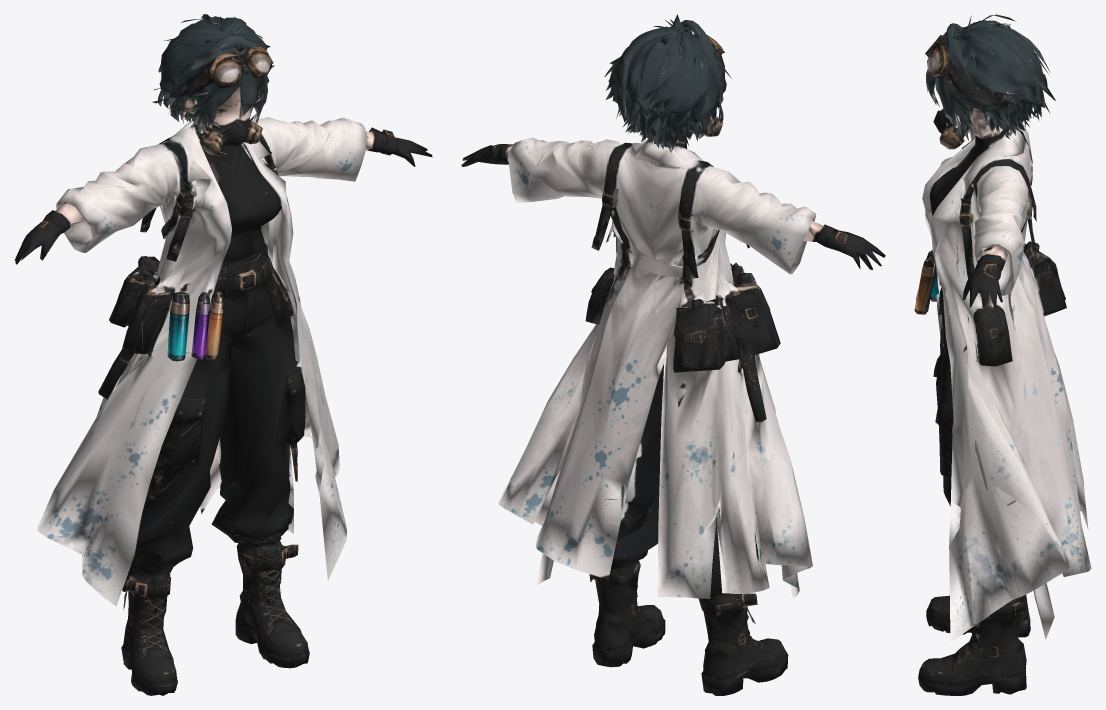
File: Chemist.fbx
3 views of the same model, side by side, from view 1: azimuth 30°, elevation 25°; view 2: azimuth 150°, elevation 25°; view 3: azimuth 270°, elevation 25° (orthographic).
Visible parts, largest first — view 1: Mesh_0; view 2: Mesh_0; view 3: Mesh_0.
Boxes of the visible parts, bbox=[...] form: Mesh_0: bbox=[14, 14, 432, 695]; Mesh_0: bbox=[461, 14, 885, 695]; Mesh_0: bbox=[914, 14, 1091, 695].
Size of the model in its own units: 128 by 188 by 46.92.
Materials: 1 (1 with a texture image).
